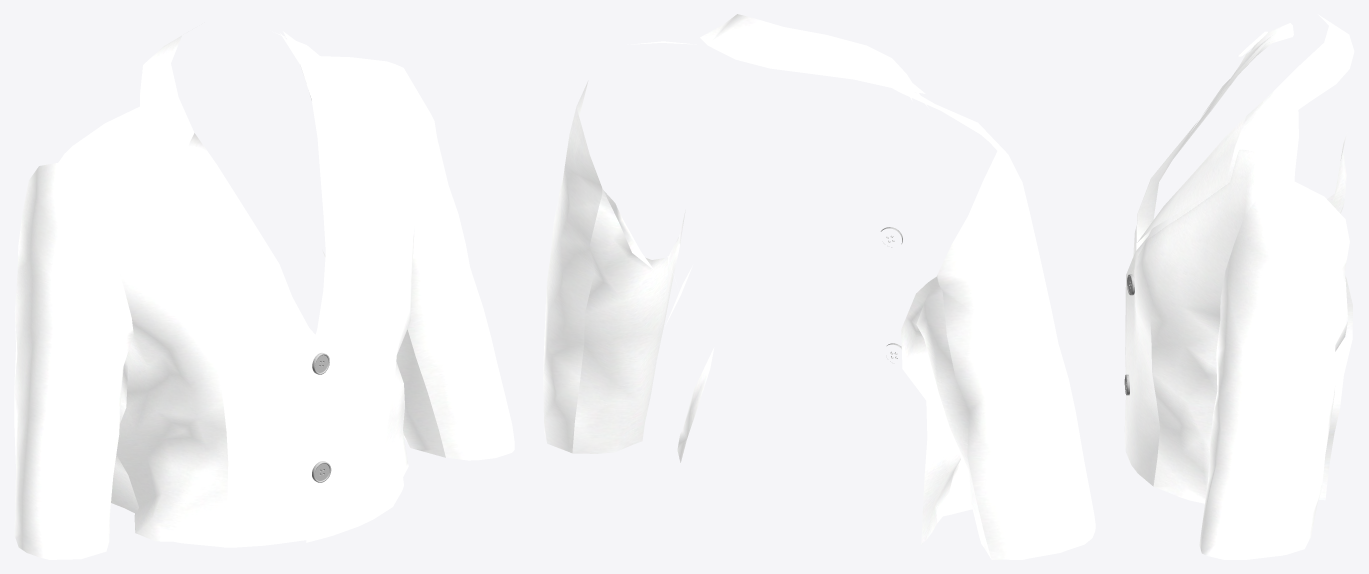
The model's file is Coat.glb.
The picture shows the model from 3 angles, left to right: view 1: azimuth 30°, elevation 25°; view 2: azimuth 150°, elevation 25°; view 3: azimuth 270°, elevation 25°; orthographic projection. The views are drawn at different scales.
Visible parts, largest first — view 1: Coat_v01_1_lo, Button; view 2: Coat_v01_1_lo; view 3: Coat_v01_1_lo.
Boxes of the visible parts, bbox=[...] form: Coat_v01_1_lo: bbox=[14, 29, 514, 559]; Button: bbox=[312, 353, 331, 482]; Coat_v01_1_lo: bbox=[543, 14, 1095, 559]; Coat_v01_1_lo: bbox=[1124, 14, 1354, 559].
Bounding box in the file's own units: 1.51 × 1.33 × 0.6616.
2 materials, 1 textured.
